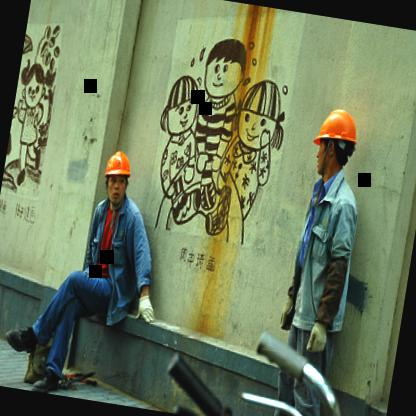helmet: (300, 98, 368, 192), (95, 139, 140, 211)
